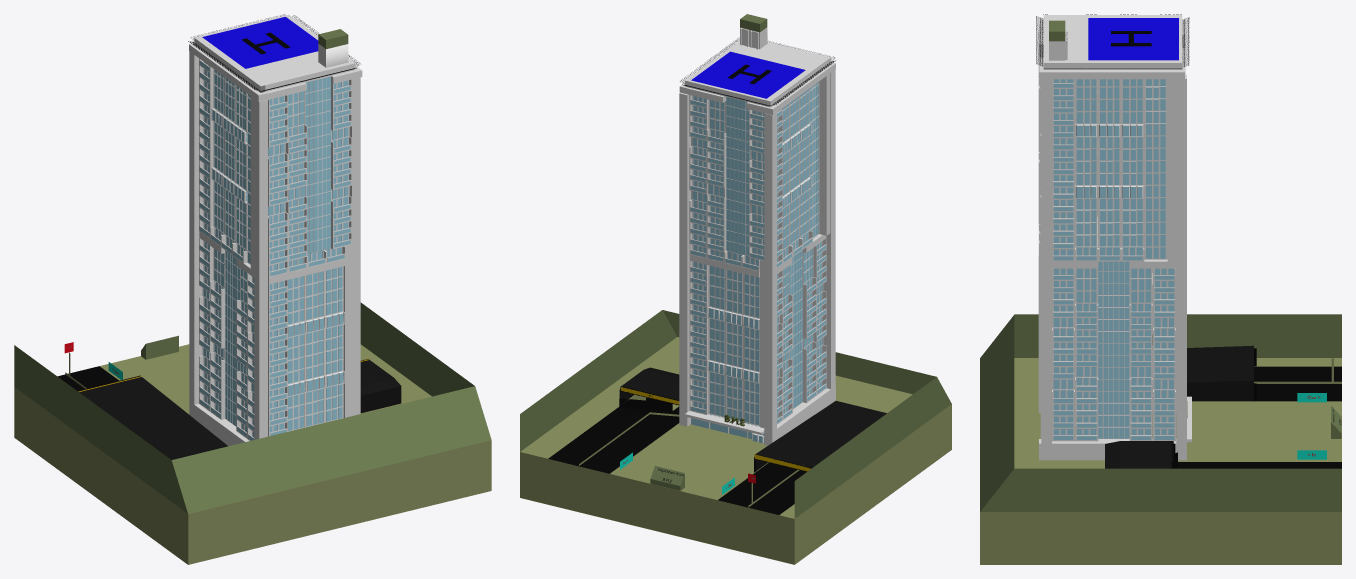
Rendered from 1stbuilding 1.fbx.
3 views of the same model, side by side, from view 1: azimuth 30°, elevation 25°; view 2: azimuth 150°, elevation 25°; view 3: azimuth 270°, elevation 25° (orthographic). The views are drawn at different scales.
Parts seen in each view (by area): view 1: Plane.059; view 2: Plane.059; view 3: Plane.059.
Boxes of the visible parts, x1,y1,x2,y2 form: Plane.059: [14, 14, 491, 564]; Plane.059: [520, 14, 951, 564]; Plane.059: [980, 14, 1341, 564].
Size of the model in its own units: 6905 by 9976 by 6852.
